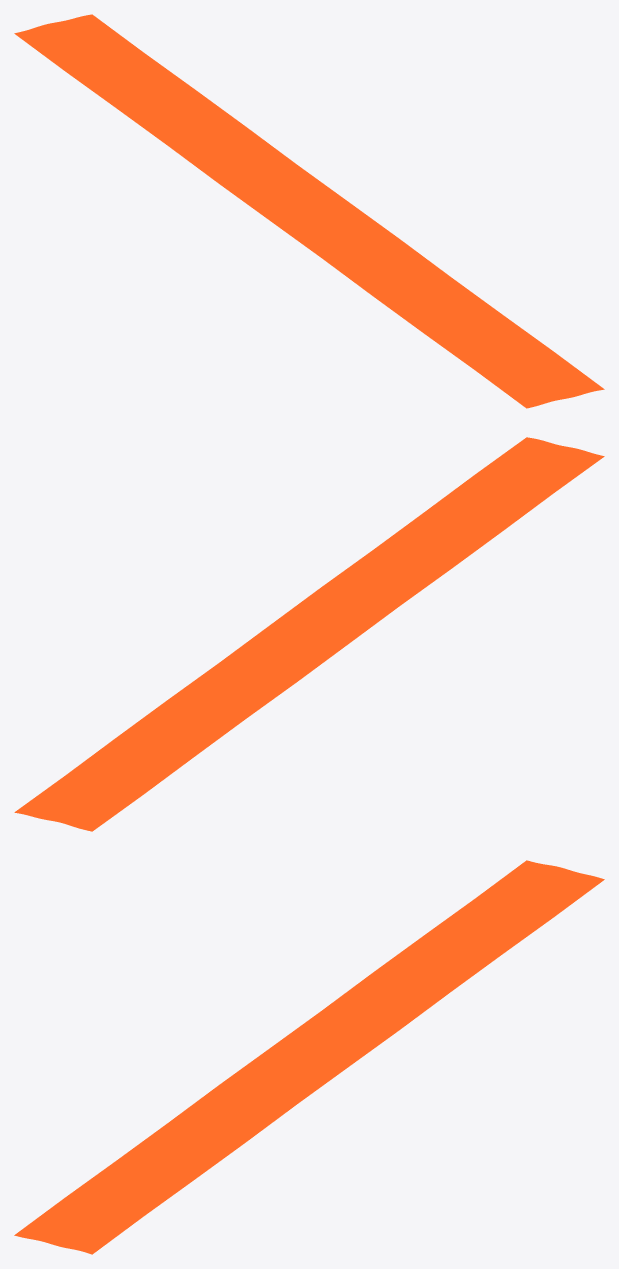
File: lubiak_ember_ground.glb
3 renders of one model, top to bottom at view 1: azimuth 30°, elevation 25°; view 2: azimuth 150°, elevation 25°; view 3: azimuth 330°, elevation 25°, orthographic.
Parts seen in each view (by area): view 1: LUBIAK_EmberGround; view 2: LUBIAK_EmberGround; view 3: LUBIAK_EmberGround.
Boxes of the visible parts, <box> form: LUBIAK_EmberGround: <box>14,14,604,408</box>; LUBIAK_EmberGround: <box>14,437,604,831</box>; LUBIAK_EmberGround: <box>14,860,604,1254</box>.
Size of the model in its own units: 7.5 by 0.1617 by 85.
